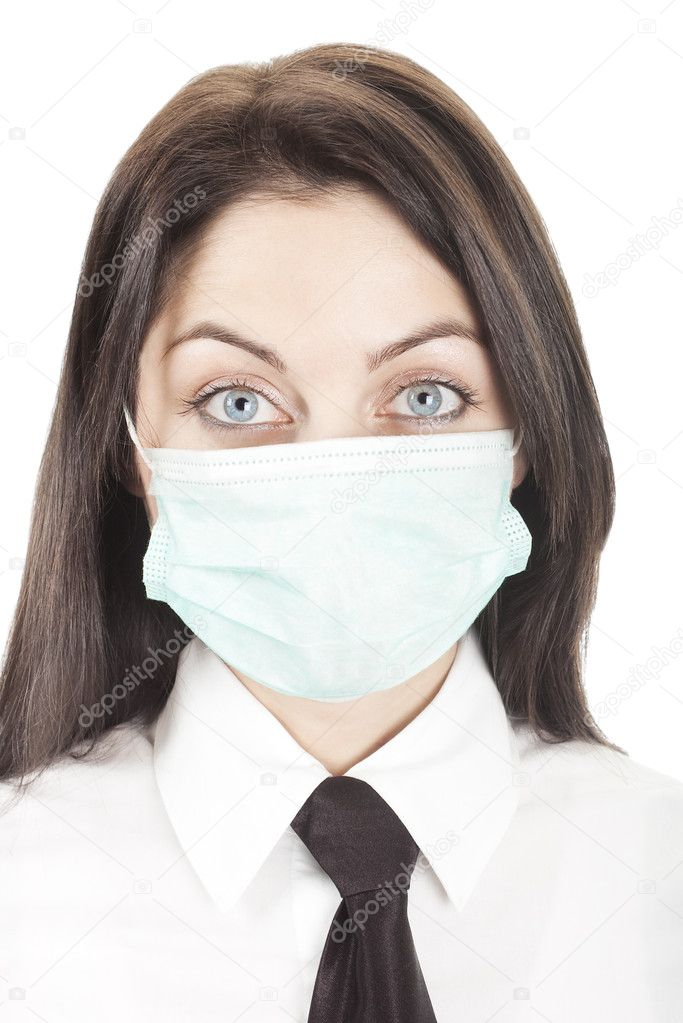mask: (133, 429, 527, 706)
